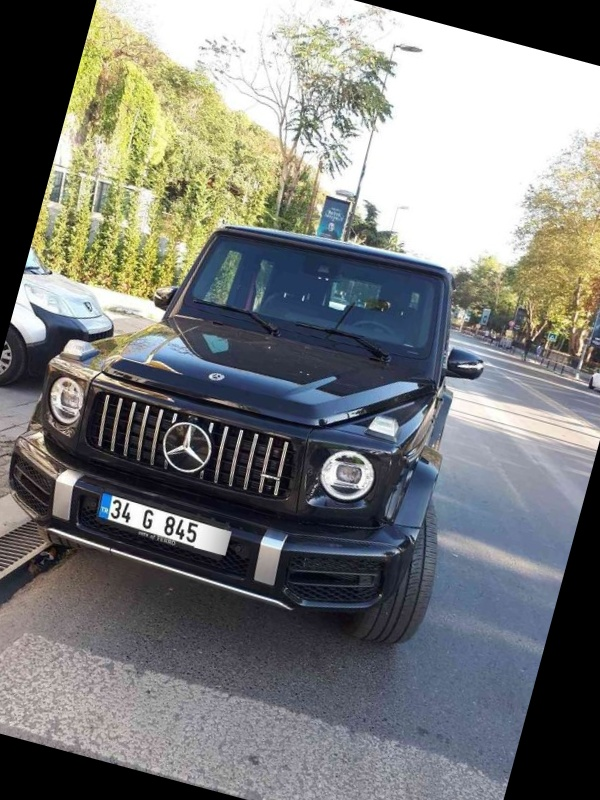plaka: (97, 488, 207, 546)
